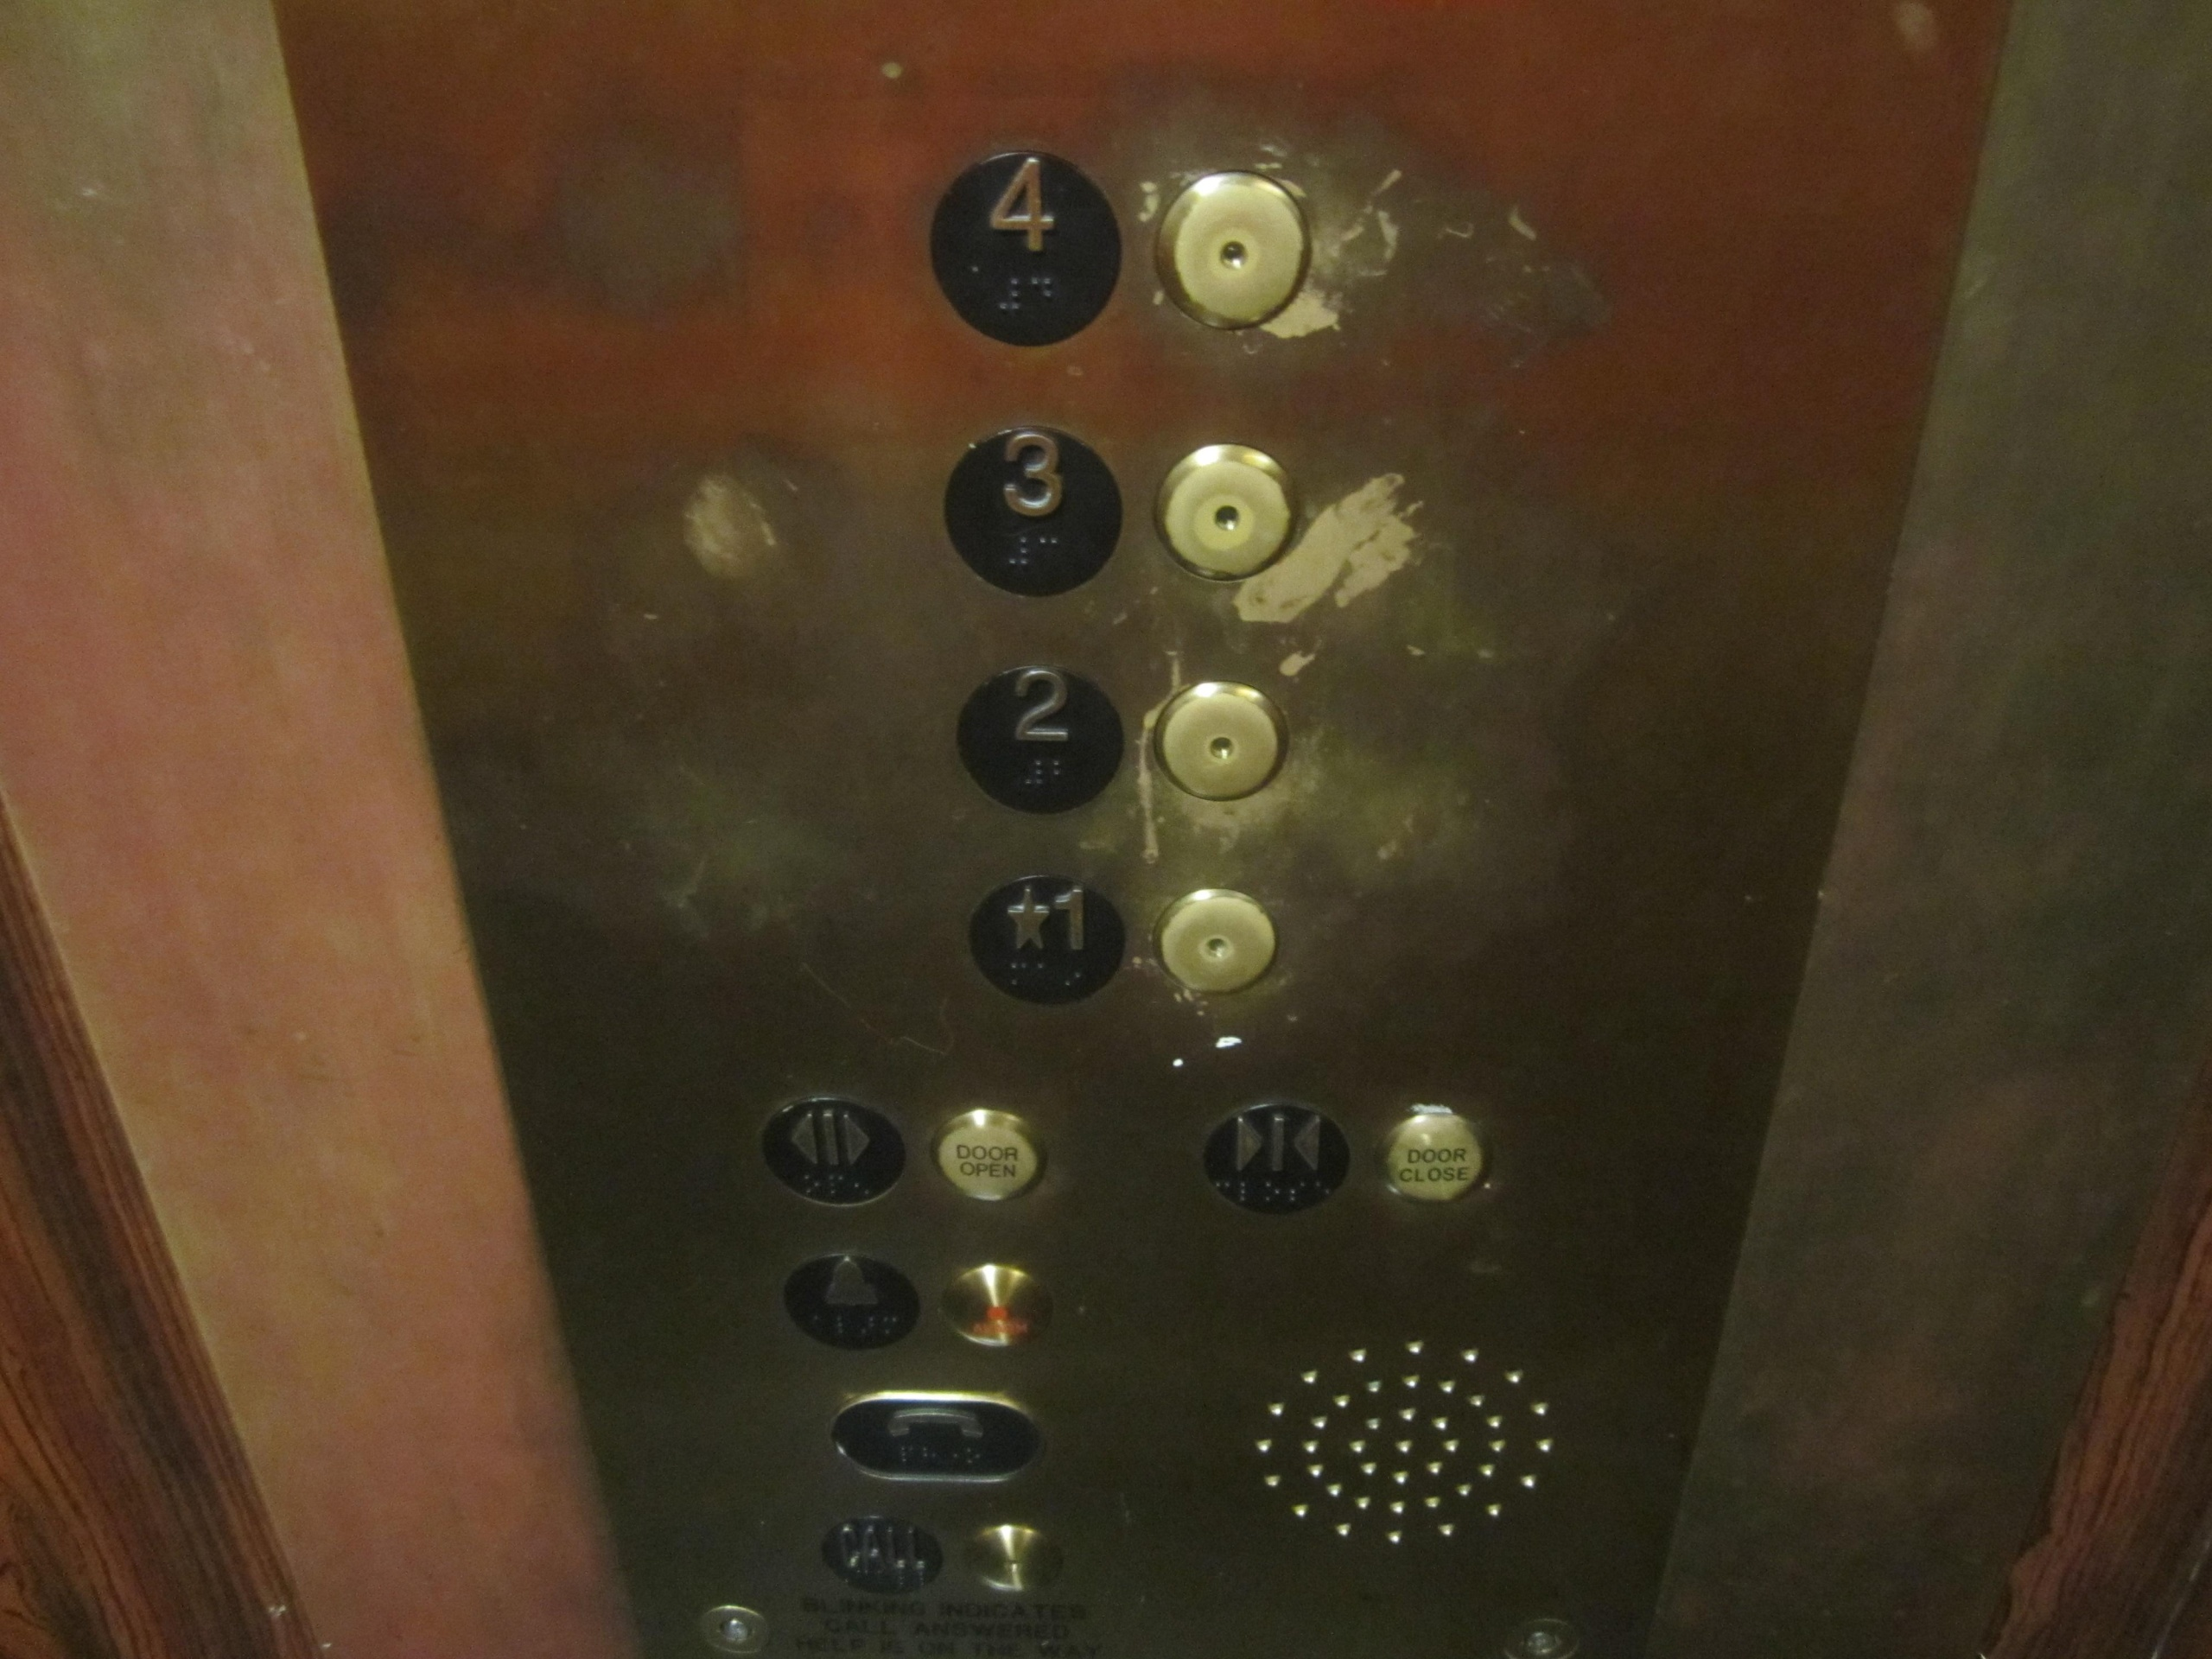2: (951, 660, 1125, 816)
3: (939, 423, 1123, 598)
4: (927, 143, 1127, 350)
alarm: (777, 1249, 921, 1354)
call: (829, 1391, 1043, 1486)
close: (1200, 1098, 1352, 1216)
empty: (1157, 167, 1317, 329), (1153, 439, 1299, 582), (1144, 674, 1294, 807), (1151, 884, 1278, 997), (968, 1525, 1061, 1591)
open: (759, 1098, 907, 1208)
s1: (968, 877, 1125, 1006)
text_CALL: (820, 1516, 941, 1593)
text_DOOR CLOSE: (1381, 1110, 1487, 1204)
text_DOOR OPEN: (930, 1108, 1045, 1201)
unknown: (939, 1262, 1049, 1347)
